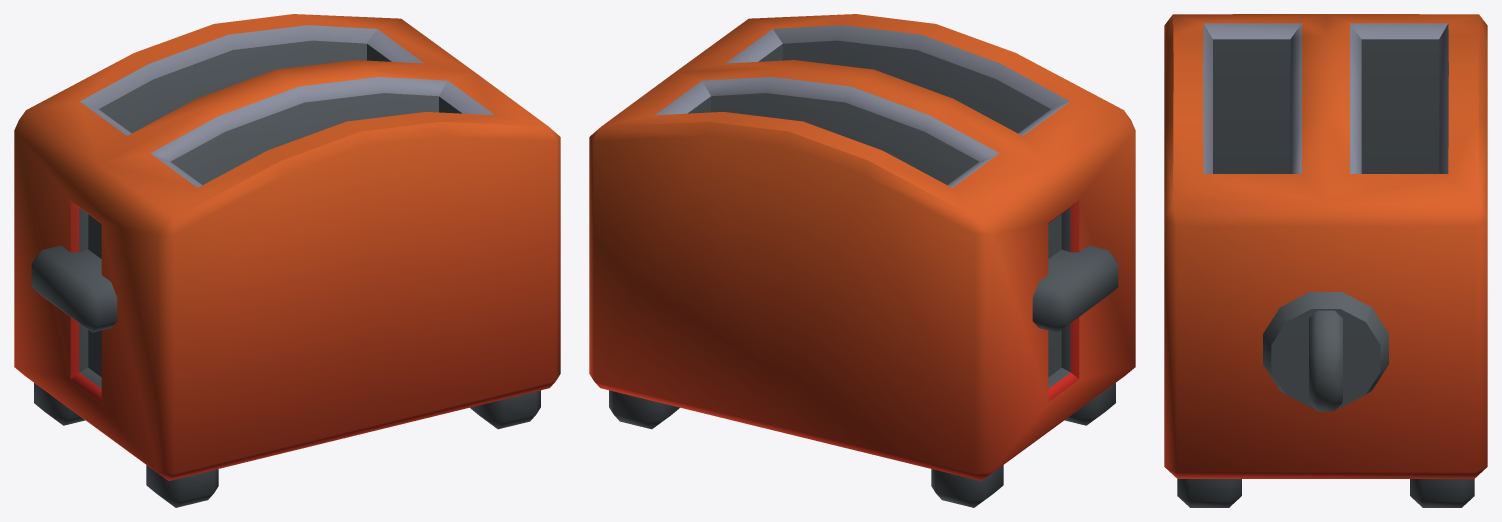
Rendered from Toaster.glb.
3 views of the same model, side by side, from view 1: azimuth 30°, elevation 25°; view 2: azimuth 150°, elevation 25°; view 3: azimuth 270°, elevation 25° (orthographic). The views are drawn at different scales.
Parts seen in each view (by area): view 1: toaster; view 2: toaster; view 3: toaster.
Boxes of the visible parts, x1,y1,x2,y2 form: toaster: (14, 14, 560, 507); toaster: (589, 14, 1135, 507); toaster: (1164, 14, 1487, 507).
Bounding box in the file's own units: 0.9161 × 0.6 × 0.5.
1 material, 1 textured.
